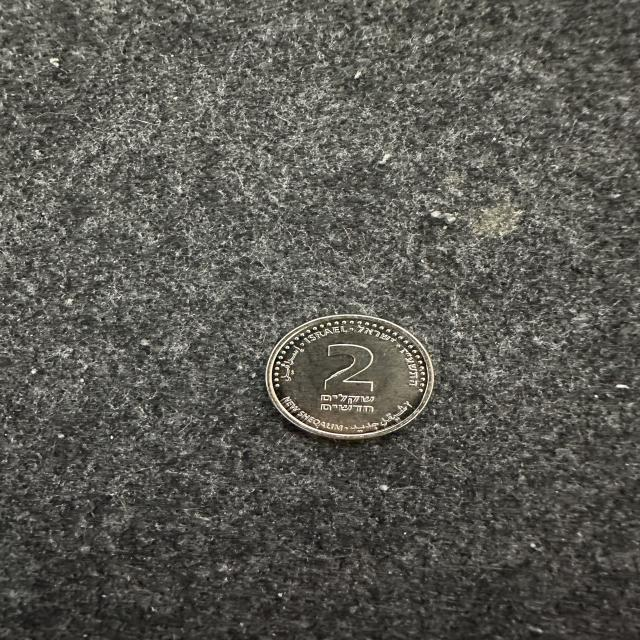2-shekel: (262, 313, 446, 446)
